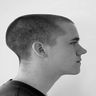ear: (28, 35, 52, 62)
